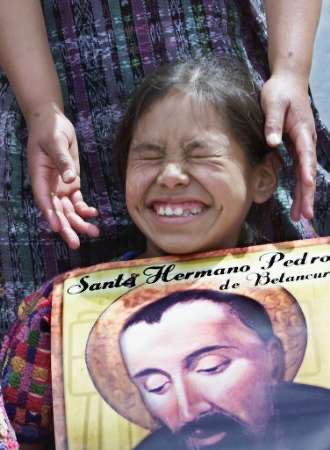Face: (125, 102, 261, 271)
